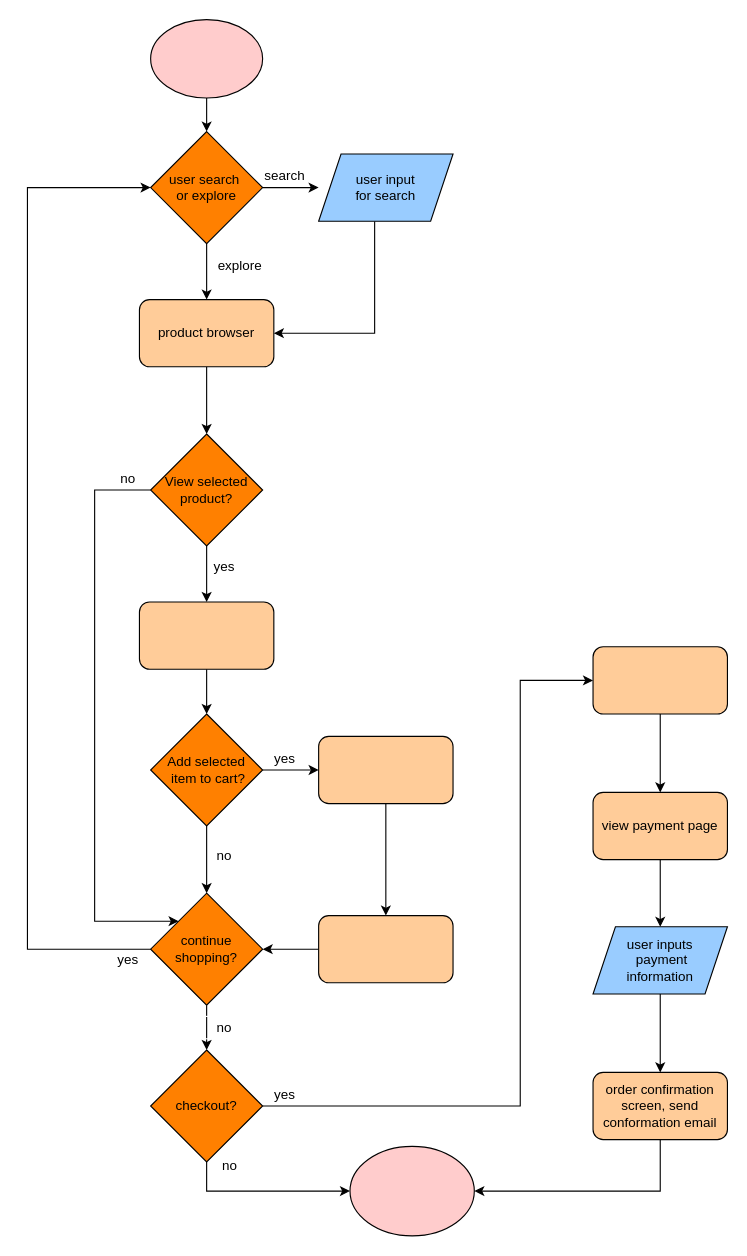
Some shapes in this 747 by 1256 pixel diagram are drawn without their labels. The shapes that lost their labels are listed below. From the top down, each one's centre as x and y in pixels, then its label:
At point (206, 58): "user enters website".
At point (206, 635): "open product webpage".
At point (659, 680): "view cart page".
At point (385, 769): "add item to cart".
At point (385, 948): "send add to cart conformation".
At point (411, 1190): "Exit website".
